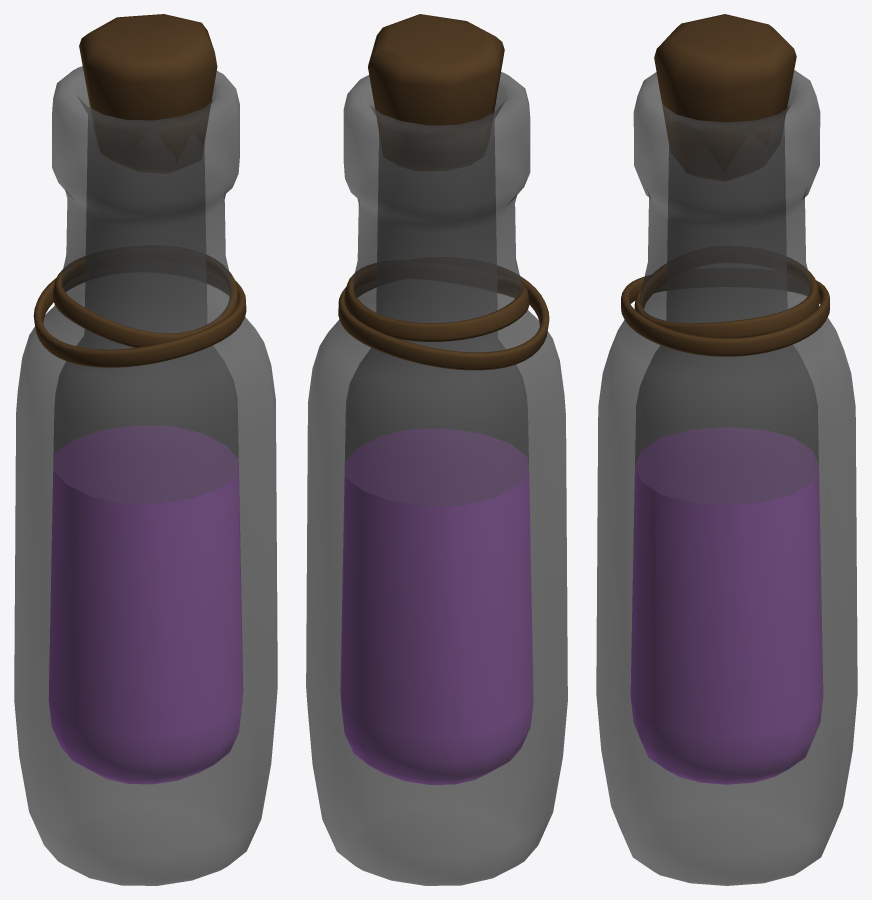
The model's file is unicorn_tears.fbx.
The picture shows the model from 3 angles, left to right: view 1: azimuth 30°, elevation 25°; view 2: azimuth 150°, elevation 25°; view 3: azimuth 270°, elevation 25°; orthographic projection.
Visible parts, largest first — view 1: unicornTears; view 2: unicornTears; view 3: unicornTears.
Part boxes in pixels (<box>): unicornTears: <box>14,14,277,885</box>; unicornTears: <box>306,14,567,885</box>; unicornTears: <box>596,14,857,885</box>.
Bounding box in the file's own units: 17.18 × 59.21 × 17.18.
